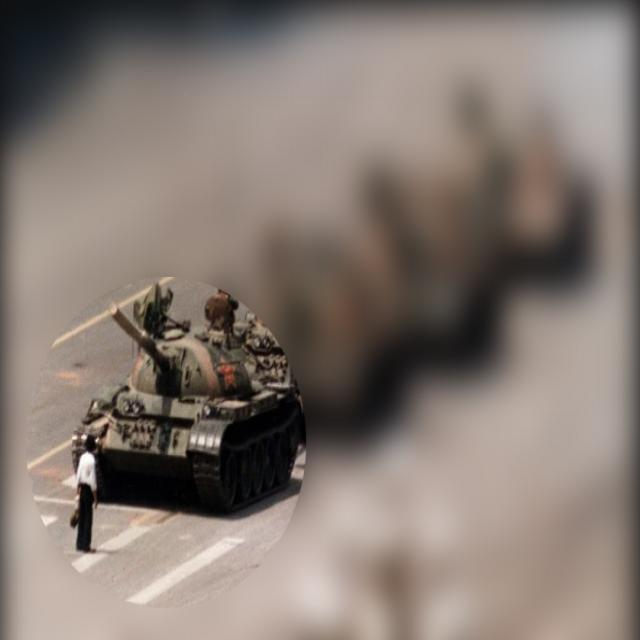tank: (69, 279, 307, 514)
